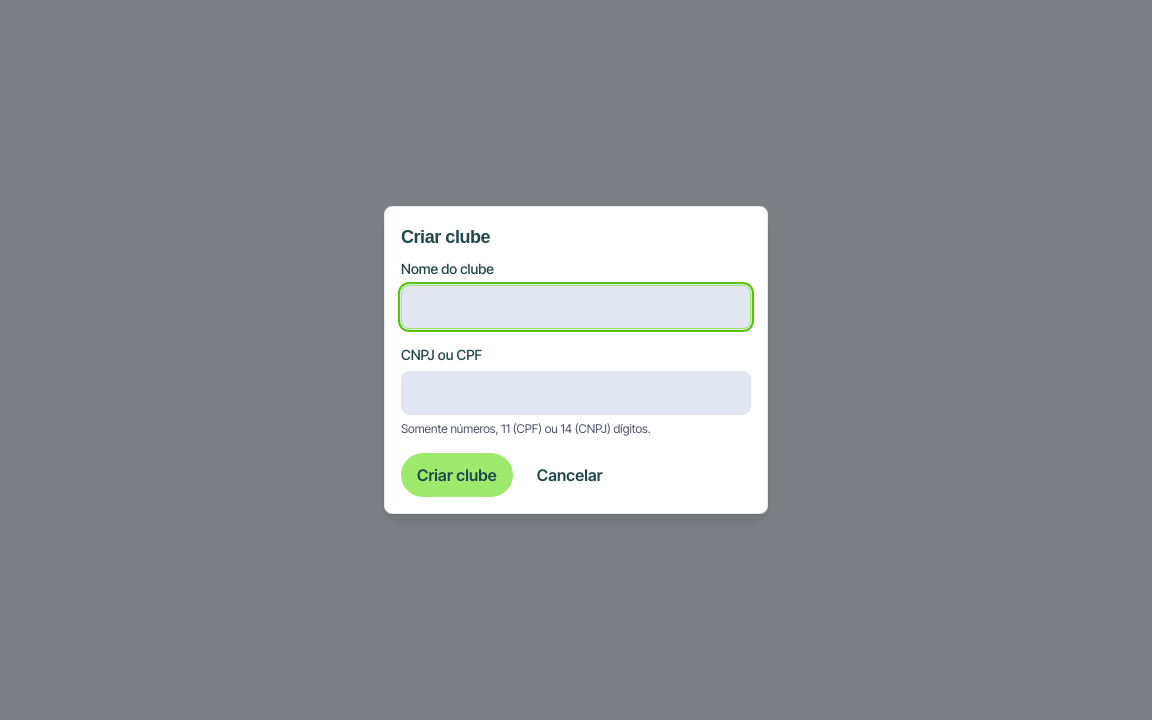
Test: CreateClubeDialog › mostra o erro da API quando a criação falha
This screenshot has width=1152, height=720.
Step 1. Type "X" into the field labelled "Nome do clube" → (576, 307), box [401,285,751,329]
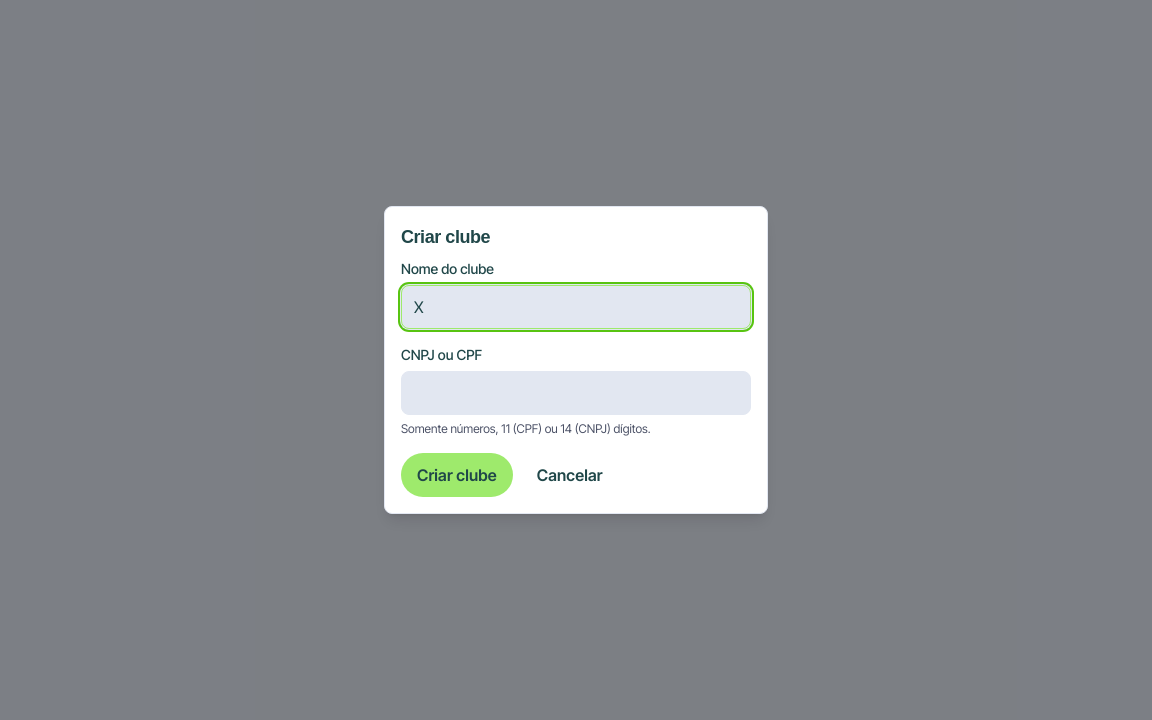
Step 2. Type "12345678901" into the field labelled "CNPJ ou CPF" → (576, 393), box [401,371,751,415]
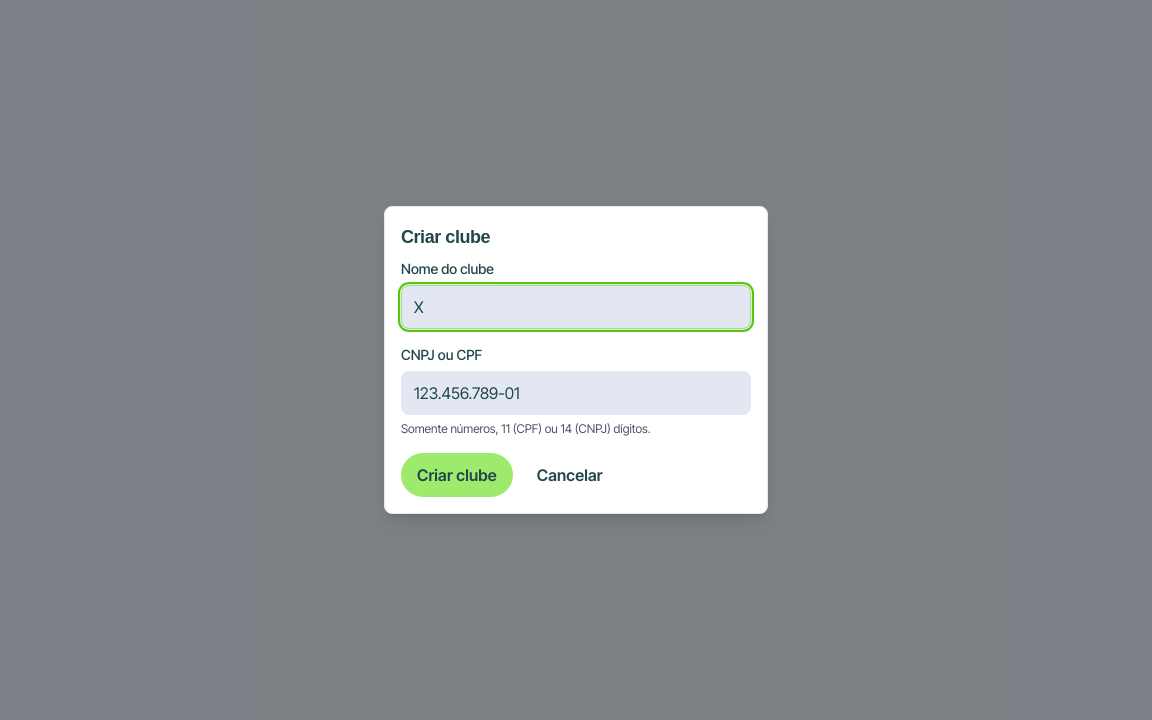
Step 3. Click the button "Criar clube" → (457, 475), box [401,453,513,497]
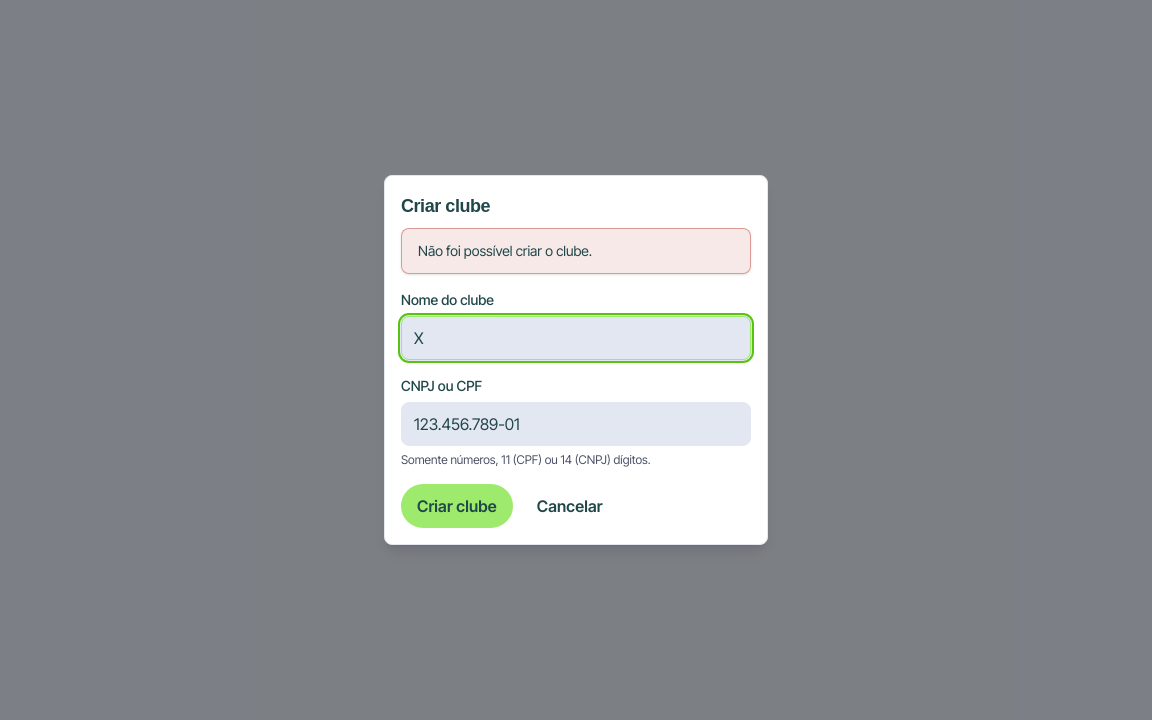
Result: the text "Não foi possível criar o clube." is shown at [418,242,592,259]
